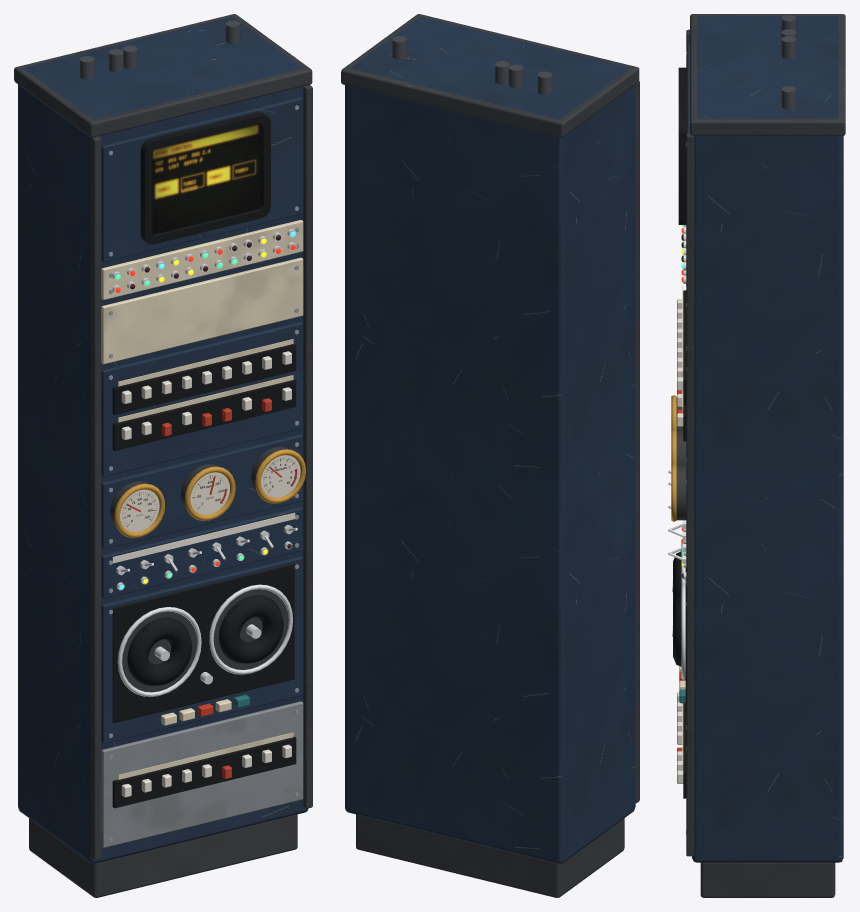
File: Rack_60_1.glb
3 views of the same model, side by side, from view 1: azimuth 30°, elevation 25°; view 2: azimuth 150°, elevation 25°; view 3: azimuth 270°, elevation 25° (orthographic).
Visible parts, largest first — view 1: Rack_60_1_Body; view 2: Rack_60_1_Body; view 3: Rack_60_1_Body.
Boxes of the visible parts, x1,y1,x2,y2 form: Rack_60_1_Body: [14, 14, 312, 897]; Rack_60_1_Body: [341, 14, 639, 897]; Rack_60_1_Body: [668, 14, 845, 897].
Bounding box in the file's own units: 0.61 × 2.1 × 0.4216.
22 materials, 11 textured.
